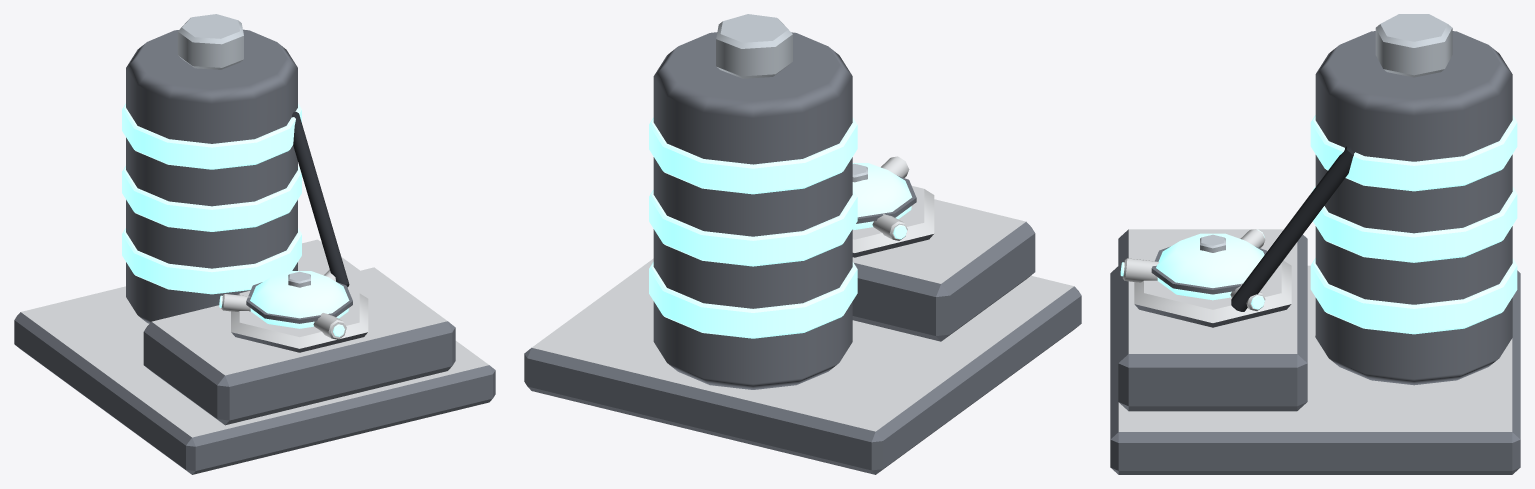
File: R4X_SlowTrapDeployer_LOD1.fbx
3 views of the same model, side by side, from view 1: azimuth 30°, elevation 25°; view 2: azimuth 150°, elevation 25°; view 3: azimuth 270°, elevation 25° (orthographic). The views are drawn at different scales.
Parts seen in each view (by area): view 1: R4X_SlowTrapDeployer_LOD1; view 2: R4X_SlowTrapDeployer_LOD1; view 3: R4X_SlowTrapDeployer_LOD1.
Part boxes in pixels (box(x1,y1,x2,y2)): R4X_SlowTrapDeployer_LOD1: box(14, 14, 495, 474); R4X_SlowTrapDeployer_LOD1: box(524, 14, 1081, 474); R4X_SlowTrapDeployer_LOD1: box(1110, 14, 1520, 474).
Bounding box in the file's own units: 0.52 × 0.51 × 0.52.
